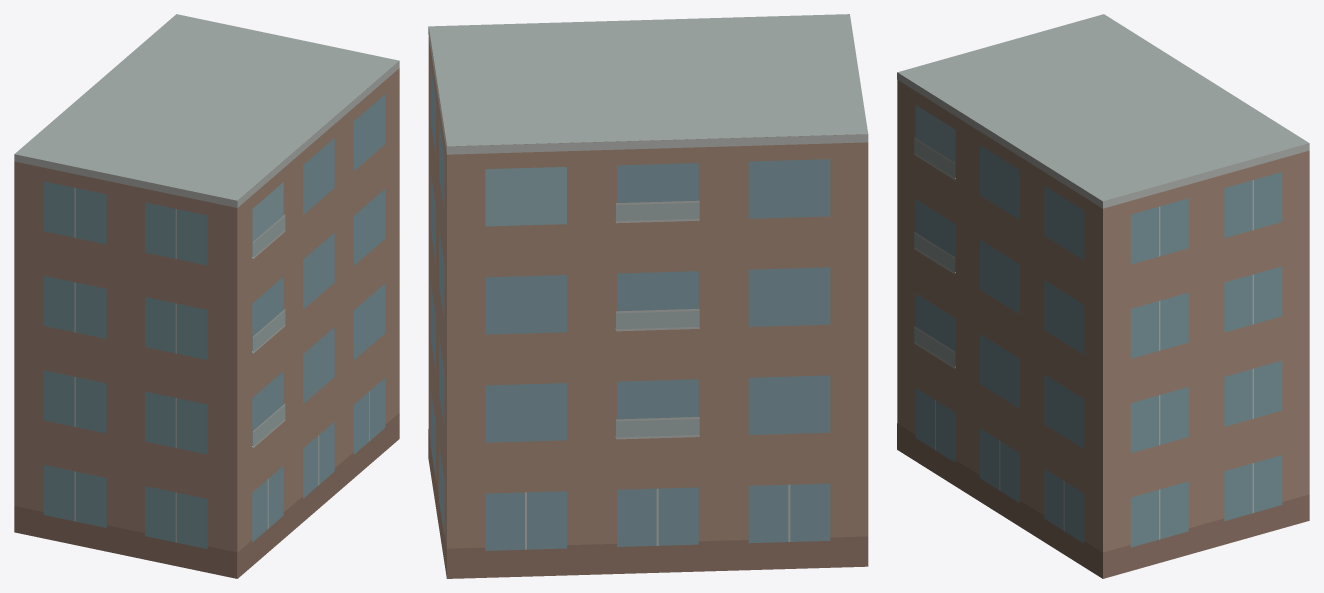
The model's file is survey-upis-32732637.glb.
3 renders of one model, left to right at view 1: azimuth 30°, elevation 25°; view 2: azimuth 150°, elevation 25°; view 3: azimuth 270°, elevation 25°, orthographic. The views are drawn at different scales.
Visible parts, largest first — view 1: survey-upis-32732637.tmp; view 2: survey-upis-32732637.tmp; view 3: survey-upis-32732637.tmp.
Boxes of the visible parts, <box> form: survey-upis-32732637.tmp: <box>14,14,399,578</box>; survey-upis-32732637.tmp: <box>428,14,868,578</box>; survey-upis-32732637.tmp: <box>897,14,1309,578</box>.
Size of the model in its own units: 13.54 by 12.7 by 12.59.
